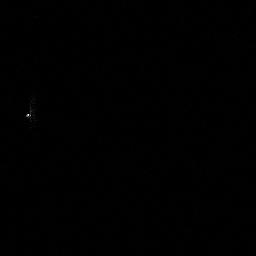ship: (24, 101, 39, 125)
